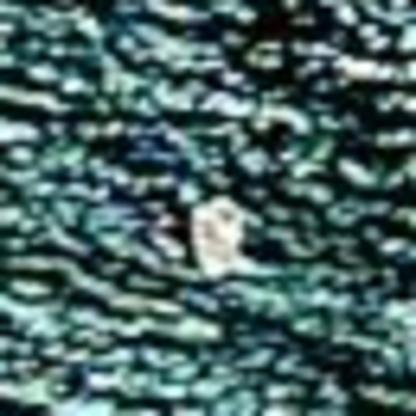ship: (182, 184, 266, 291)
